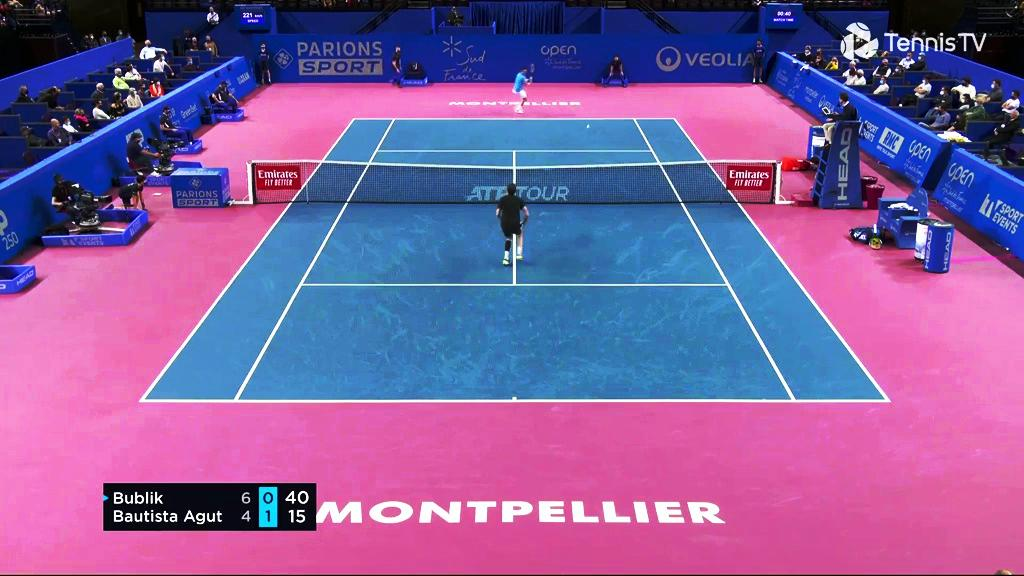tennis-court: (138, 118, 892, 402)
